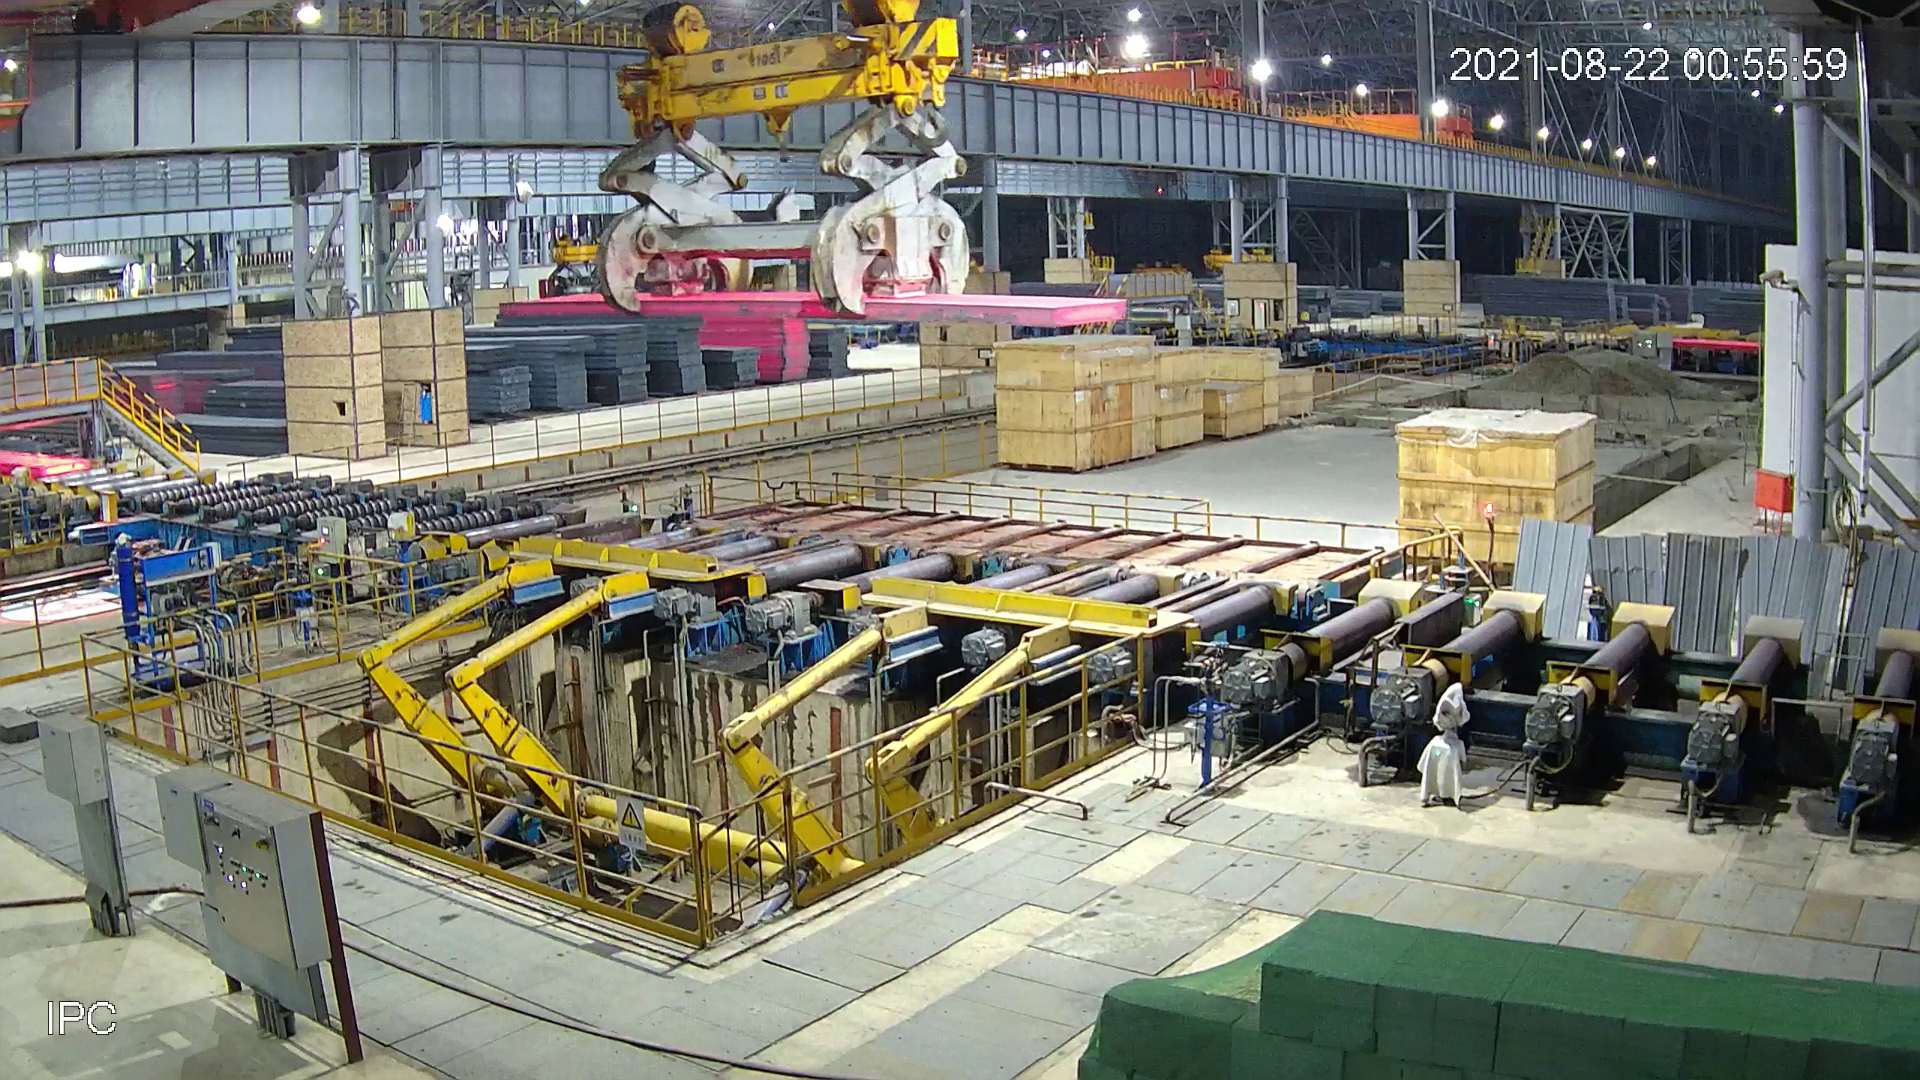slab: (939, 742, 1497, 820)
